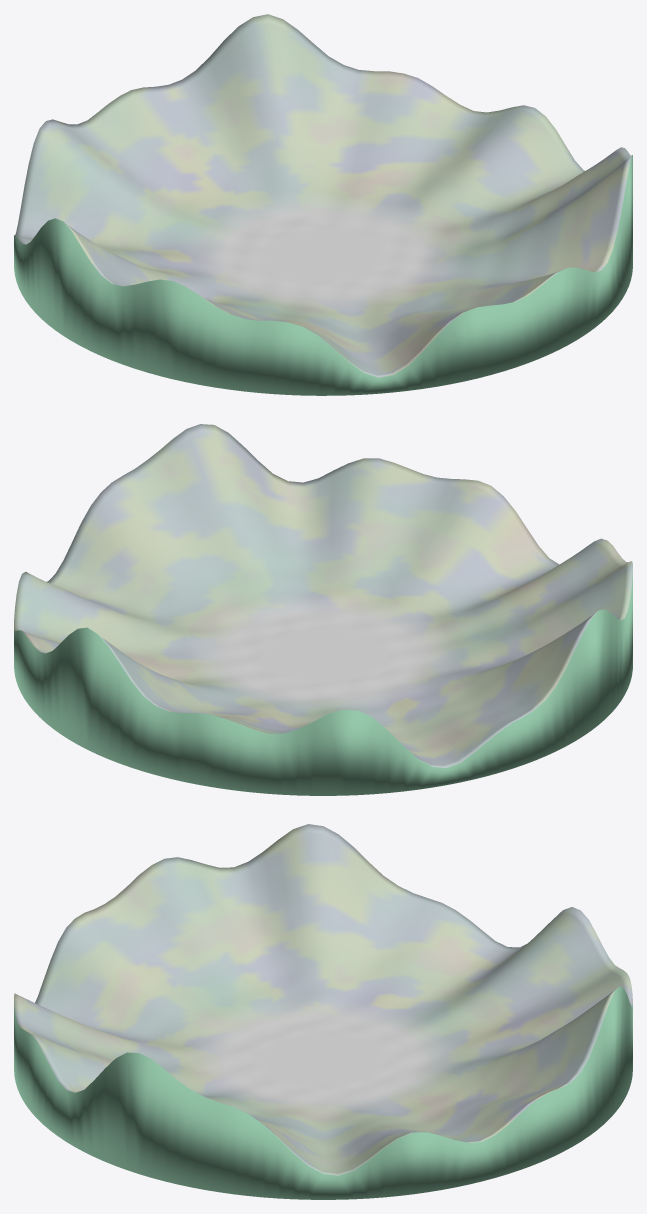
The model's file is TOY_OuterGround.fbx.
3 renders of one model, top to bottom at view 1: azimuth 30°, elevation 25°; view 2: azimuth 150°, elevation 25°; view 3: azimuth 270°, elevation 25°, orthographic.
Visible parts, largest first — view 1: TOY_OuterGround; view 2: TOY_OuterGround; view 3: TOY_OuterGround.
Boxes of the visible parts, left/top/right/bottom form: TOY_OuterGround: left=14, top=14, right=632, bottom=395; TOY_OuterGround: left=14, top=424, right=632, bottom=795; TOY_OuterGround: left=14, top=824, right=632, bottom=1199.
Size of the model in its own units: 60 by 13.07 by 60.
